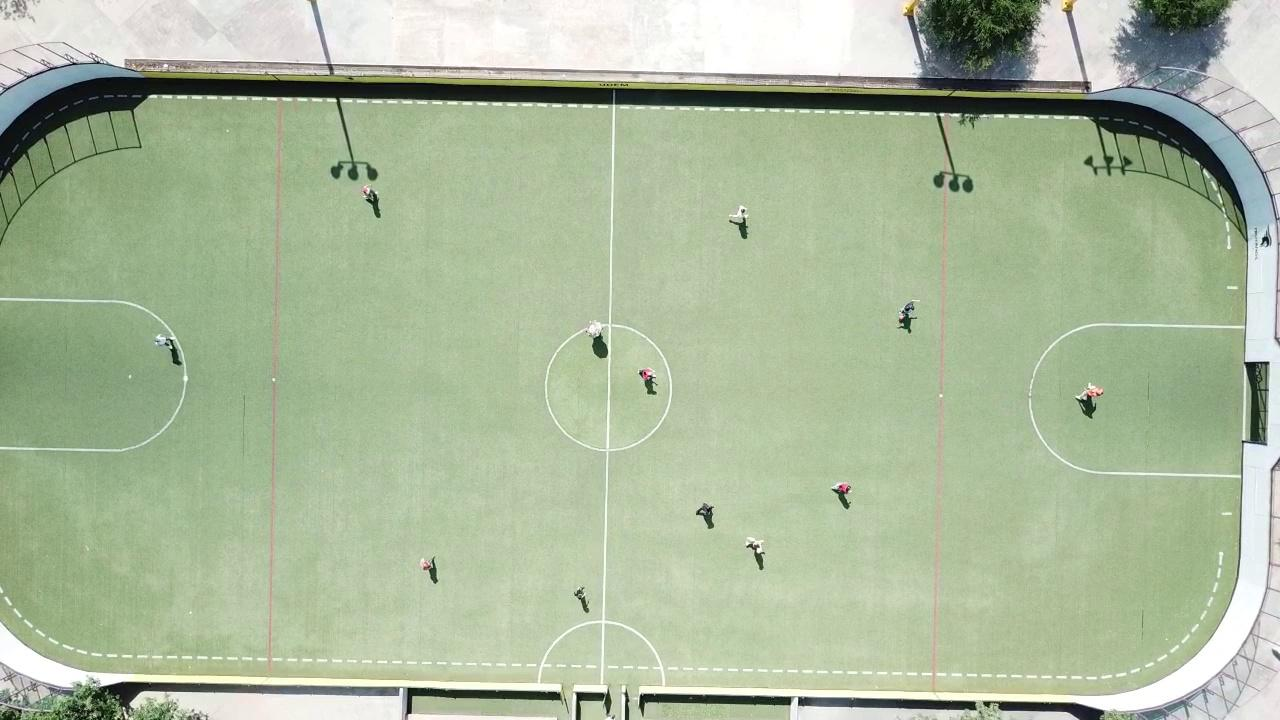ball: (899, 316, 905, 322)
player: (1074, 381, 1106, 402), (898, 298, 921, 316), (730, 205, 750, 225), (155, 333, 176, 352), (360, 183, 380, 201), (745, 537, 764, 555), (586, 321, 605, 338), (696, 502, 714, 519), (831, 483, 851, 495), (639, 368, 656, 381), (420, 557, 432, 572), (574, 586, 586, 599)
